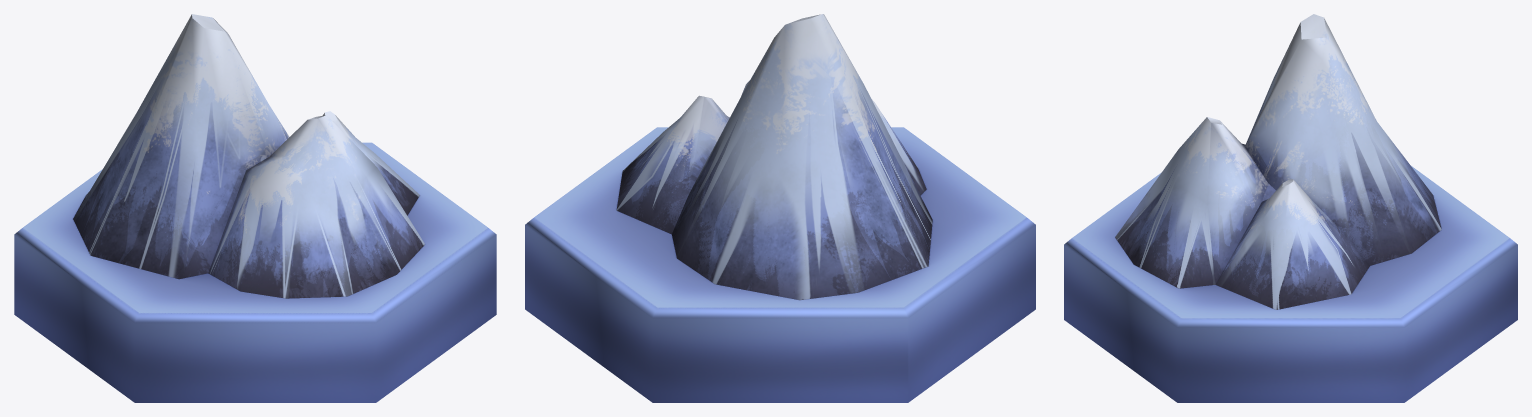
Rendered from Mountain.fbx.
3 views of the same model, side by side, from view 1: azimuth 30°, elevation 25°; view 2: azimuth 150°, elevation 25°; view 3: azimuth 270°, elevation 25° (orthographic). The views are drawn at different scales.
Visible parts, largest first — view 1: Mountain; view 2: Mountain; view 3: Mountain.
Boxes of the visible parts, box(x1,y1,x2,y2) form: Mountain: box(14, 14, 496, 402); Mountain: box(525, 14, 1035, 402); Mountain: box(1064, 14, 1517, 402).
Bounding box in the file's own units: 83.34 × 66.08 × 96.24.
Materials: 1 (1 with a texture image).
